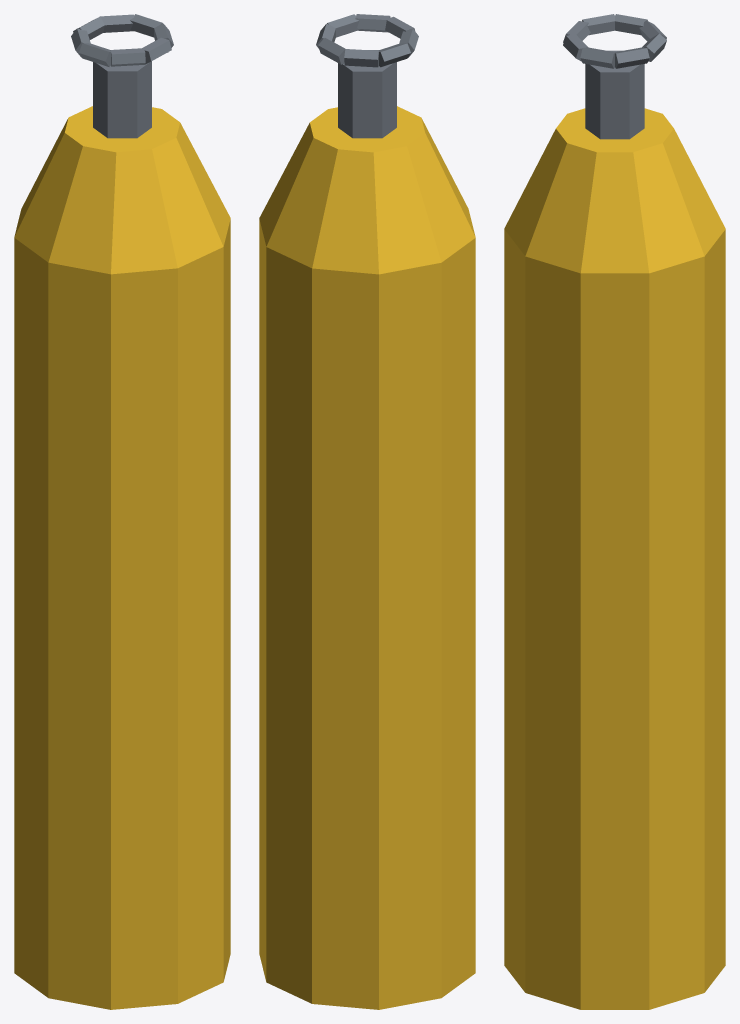
The model's file is gas_cylinder.glb.
3 views of the same model, side by side, from view 1: azimuth 30°, elevation 25°; view 2: azimuth 150°, elevation 25°; view 3: azimuth 270°, elevation 25° (orthographic).
Parts seen in each view (by area): view 1: gas_cylinder; view 2: gas_cylinder; view 3: gas_cylinder.
Boxes of the visible parts, <box> form: gas_cylinder: <box>14,14,230,1009</box>; gas_cylinder: <box>259,14,475,1009</box>; gas_cylinder: <box>504,14,725,1009</box>.
Bounding box in the file's own units: 0.2853 × 1.39 × 0.3.
